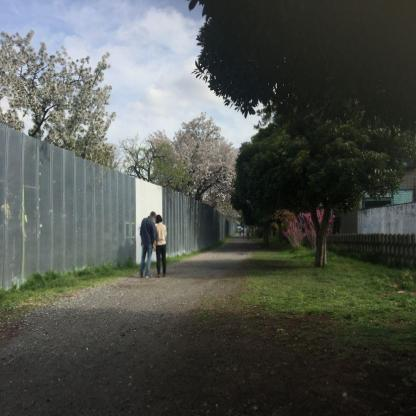Someiyoshino: (141, 108, 246, 224)
